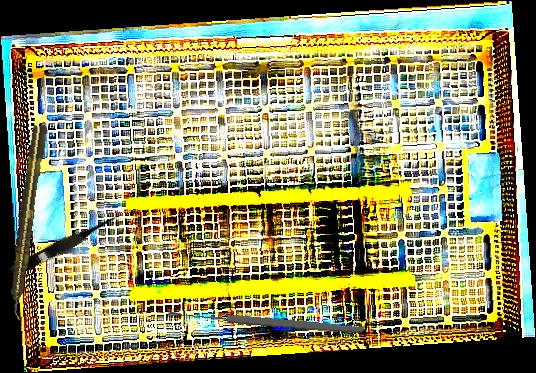Handpiece: (4, 123, 50, 321)
Micro Scissor: (7, 211, 123, 281)
Surgical Spoon: (167, 307, 366, 336)
